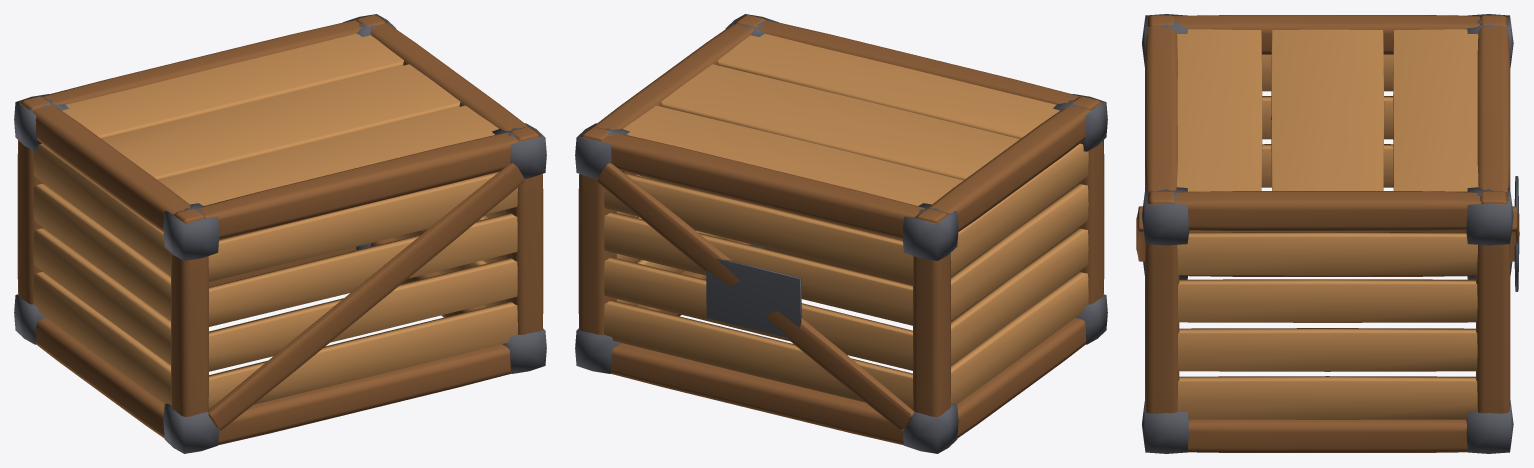
Rendered from SkateCrate.obj.
The picture shows the model from 3 angles, left to right: view 1: azimuth 30°, elevation 25°; view 2: azimuth 150°, elevation 25°; view 3: azimuth 270°, elevation 25°; orthographic projection. The views are drawn at different scales.
Visible parts, largest first — view 1: Slats, Frame, Metal; view 2: Slats, Frame, Metal; view 3: Slats, Frame, Metal.
Part boxes in pixels (x1=…): Slats: x1=33, y1=33, x2=517, y2=409; Frame: x1=17, y1=15, x2=543, y2=445; Metal: x1=14, y1=14, x2=546, y2=453; Slats: x1=604, y1=33, x2=1088, y2=409; Frame: x1=578, y1=15, x2=1104, y2=445; Metal: x1=575, y1=14, x2=1107, y2=453; Slats: x1=1177, y1=29, x2=1478, y2=419; Frame: x1=1136, y1=15, x2=1518, y2=452; Metal: x1=1142, y1=14, x2=1519, y2=453.
Bounding box in the file's own units: 4.26 × 2.6 × 3.56.
